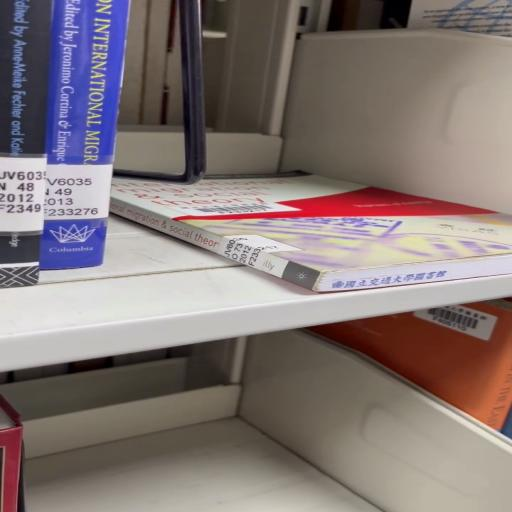flat: (110, 173, 511, 292)
